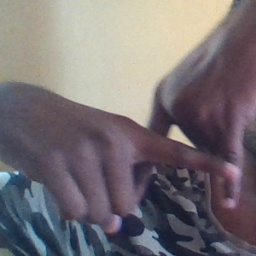H: (133, 85, 249, 222)
